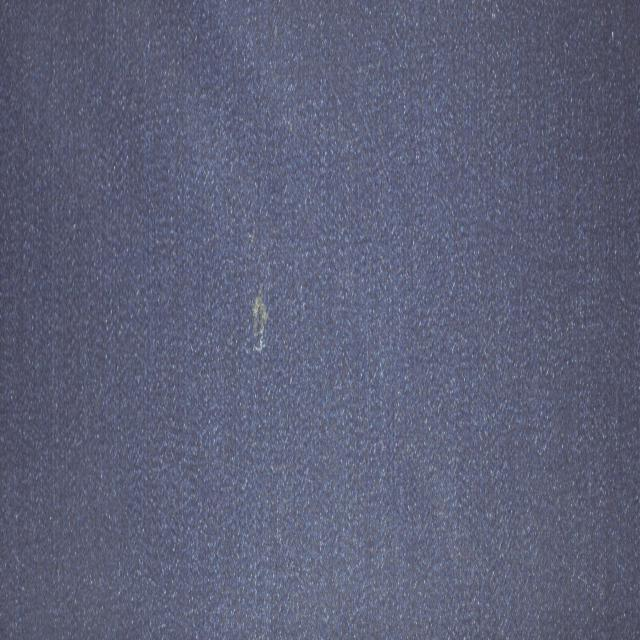Knot: (252, 290, 269, 352)
